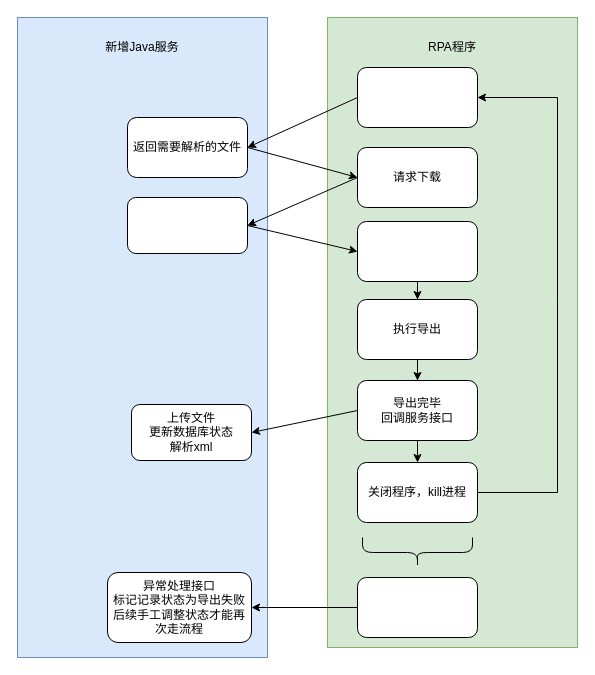
The diagram is 595 pixels wide and 675 high, and some of its shapes have lost their labels. The centre of each missing label's shape, as x and y in pixels:
"下载完成 开始执行导出" belongs at (417,251).
"再次检查文件状态 更新文件状态 执行下载命令" belongs at (187,225).
"发生异常，调用异常处理" belongs at (417,607).
"开始 打开程序，请求可以解析文件" belongs at (417,97).
